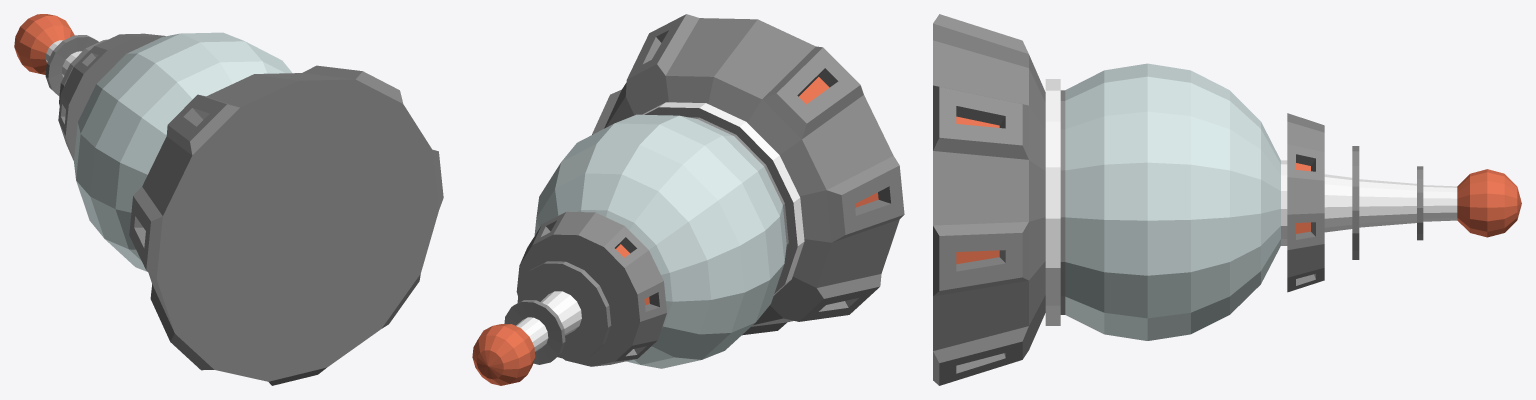
Rendered from Tesla Laser.fbx.
The picture shows the model from 3 angles, left to right: view 1: azimuth 30°, elevation 25°; view 2: azimuth 150°, elevation 25°; view 3: azimuth 270°, elevation 25°; orthographic projection. The views are drawn at different scales.
Parts seen in each view (by area): view 1: Main; view 2: Main; view 3: Main.
Part boxes in pixels (x1,y1,x2,y2): Main: (14, 14, 443, 385); Main: (472, 14, 904, 385); Main: (933, 14, 1521, 385).
Bounding box in the file's own units: 269 × 261 × 420.
